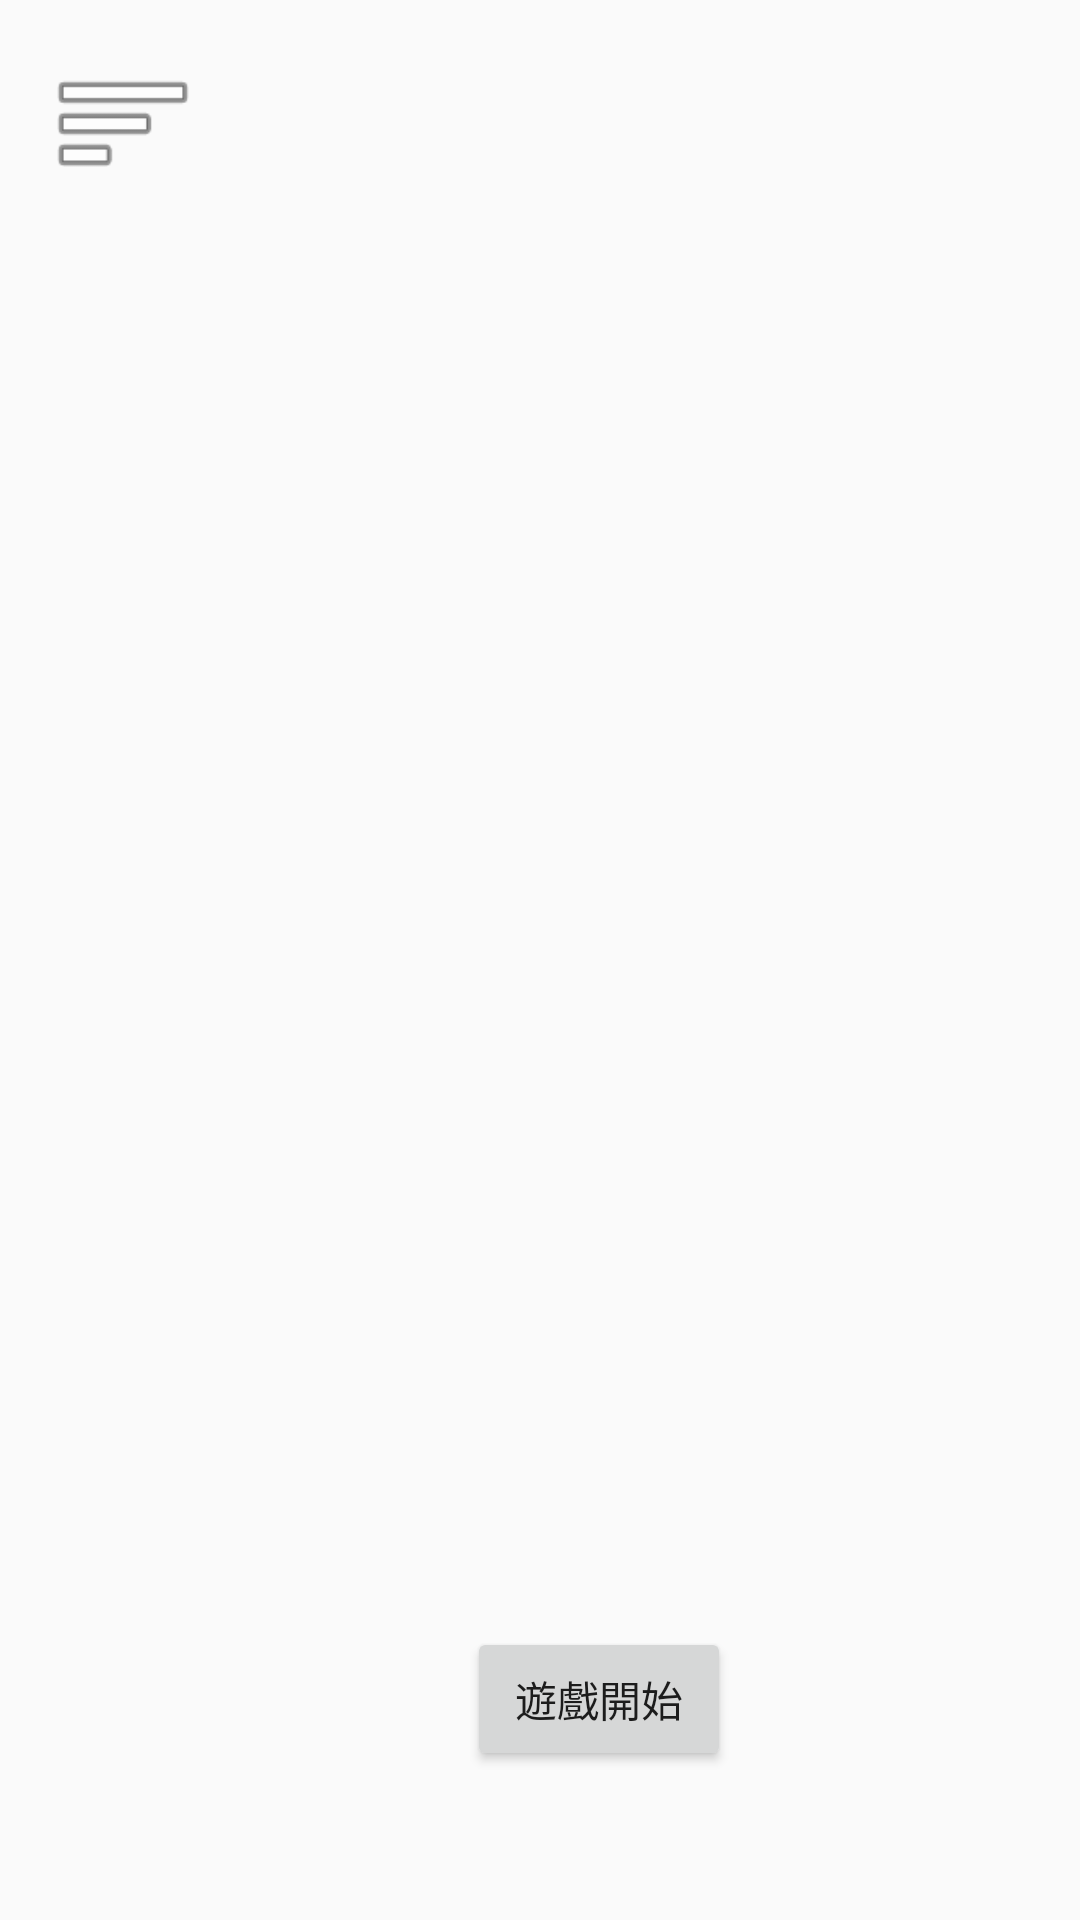

Icon bounding boxes for this 1080×1920 phone screenshot, format (x1=x1, y1=y1, x2=x2, y2=y2):
sort by size: (x1=58, y1=82, x2=188, y2=166)
